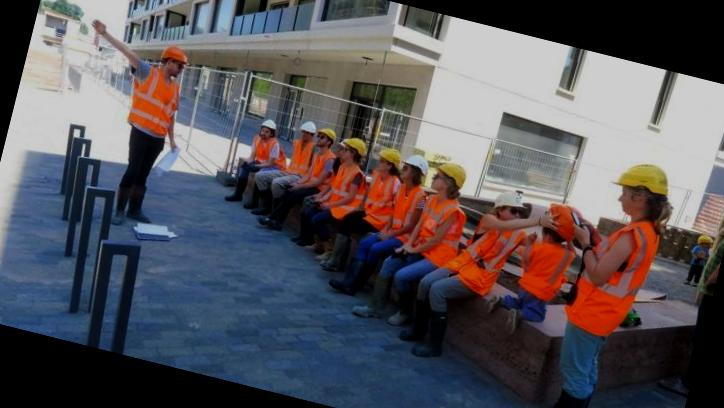helmet: (610, 158, 674, 204), (537, 200, 580, 238), (434, 158, 469, 188), (492, 185, 528, 213), (158, 44, 192, 62), (342, 136, 370, 156), (378, 144, 404, 165), (404, 152, 428, 170), (256, 117, 280, 134), (298, 119, 318, 136)
person: (507, 144, 684, 408), (400, 170, 533, 366), (88, 37, 194, 234), (365, 154, 477, 333), (345, 139, 432, 297), (287, 125, 378, 262), (497, 194, 584, 337), (230, 113, 287, 208), (270, 112, 320, 208)
